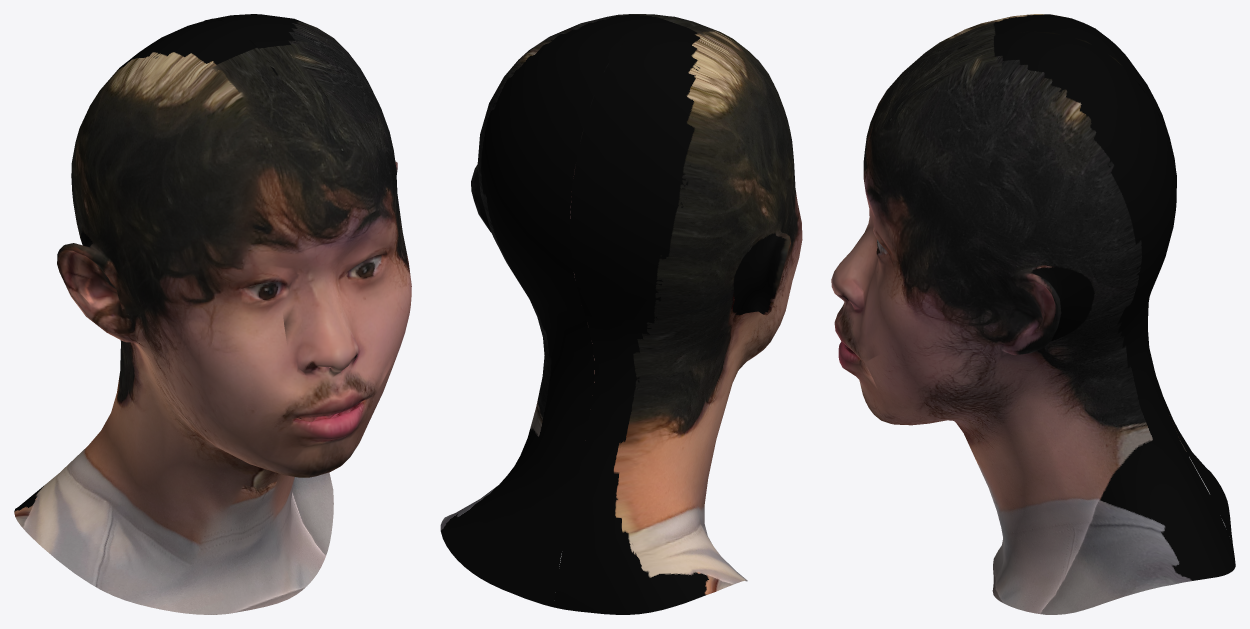
File: faceLow5.glb
The picture shows the model from 3 angles, left to right: view 1: azimuth 30°, elevation 25°; view 2: azimuth 150°, elevation 25°; view 3: azimuth 270°, elevation 25°; orthographic projection. The views are drawn at different scales.
Visible parts, largest first — view 1: FBHead; view 2: FBHead; view 3: FBHead.
Boxes of the visible parts, box(x1,y1,x2,y2) form: FBHead: box(14, 14, 411, 614); FBHead: box(440, 14, 802, 614); FBHead: box(831, 14, 1235, 614).
Bounding box in the file's own units: 1.61 × 2.62 × 1.74.
Materials: 1 (1 with a texture image).
